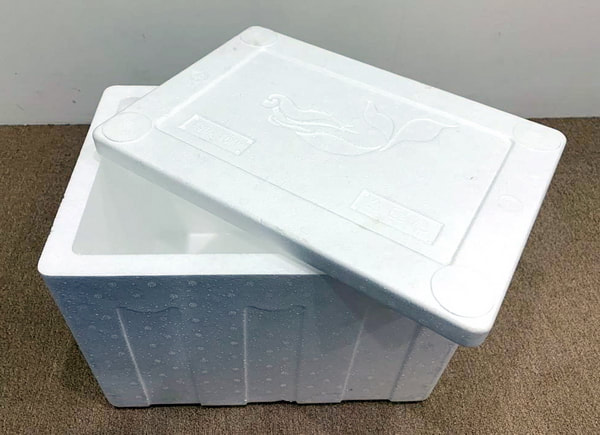Foam Box: (33, 21, 570, 411)
